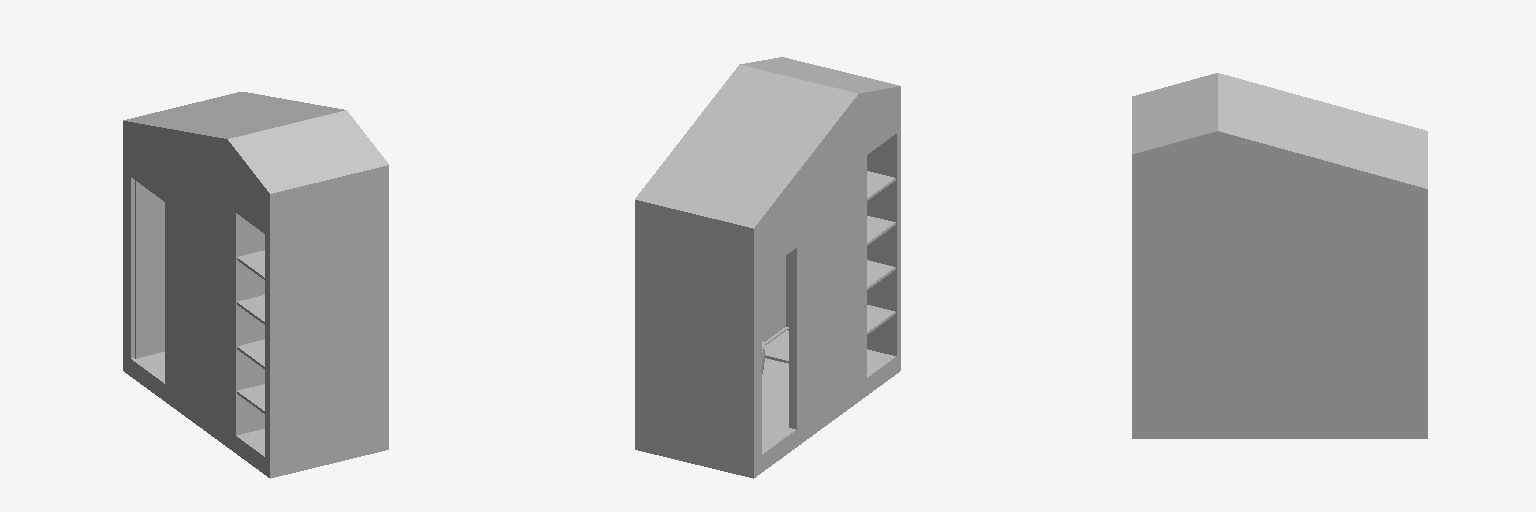
Rendered from 3D_3.4_SIM.obj.
3 views of the same model, side by side, from view 1: azimuth 30°, elevation 25°; view 2: azimuth 150°, elevation 25°; view 3: azimuth 270°, elevation 25° (orthographic).
Parts seen in each view (by area): view 1: 3D_3.4_SIM; view 2: 3D_3.4_SIM; view 3: 3D_3.4_SIM.
Boxes of the visible parts, box(x1,y1,x2,y2) form: 3D_3.4_SIM: box(123, 92, 388, 478); 3D_3.4_SIM: box(635, 57, 900, 478); 3D_3.4_SIM: box(1132, 73, 1427, 438).
Bounding box in the file's own units: 1.4 × 3.46 × 3.